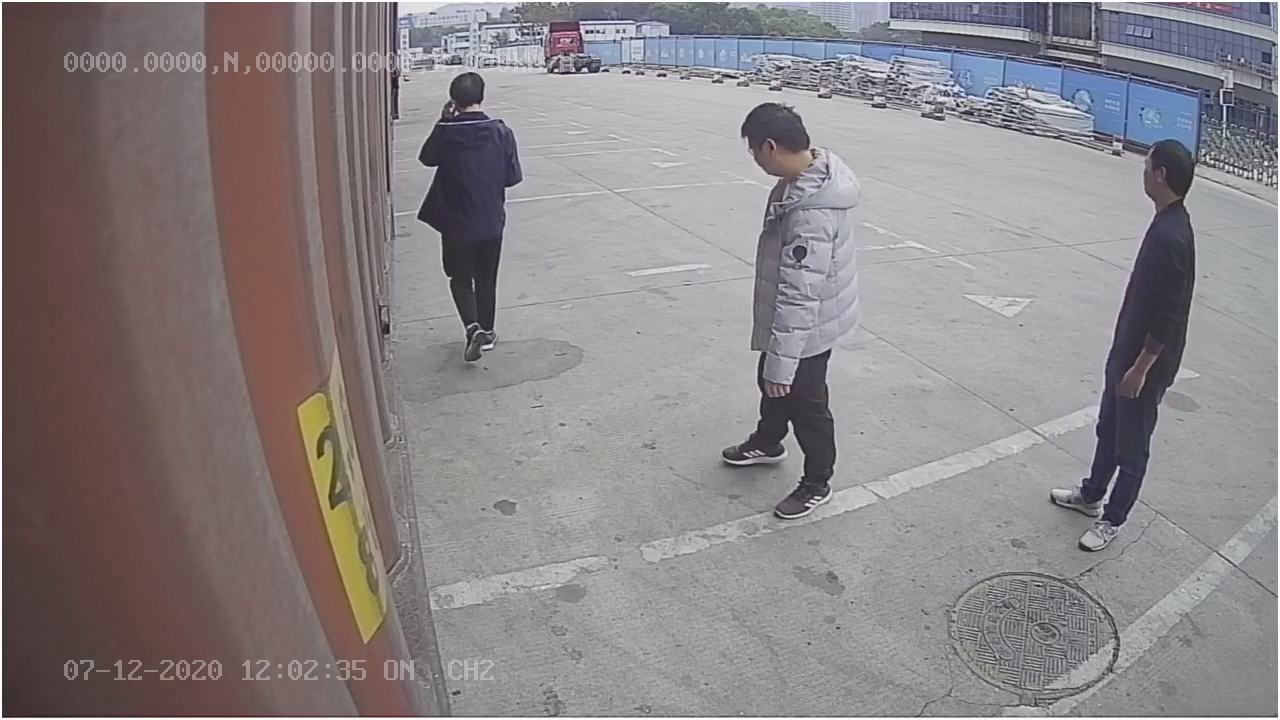person: (1047, 122, 1199, 556), (716, 96, 863, 521), (416, 69, 524, 367)
